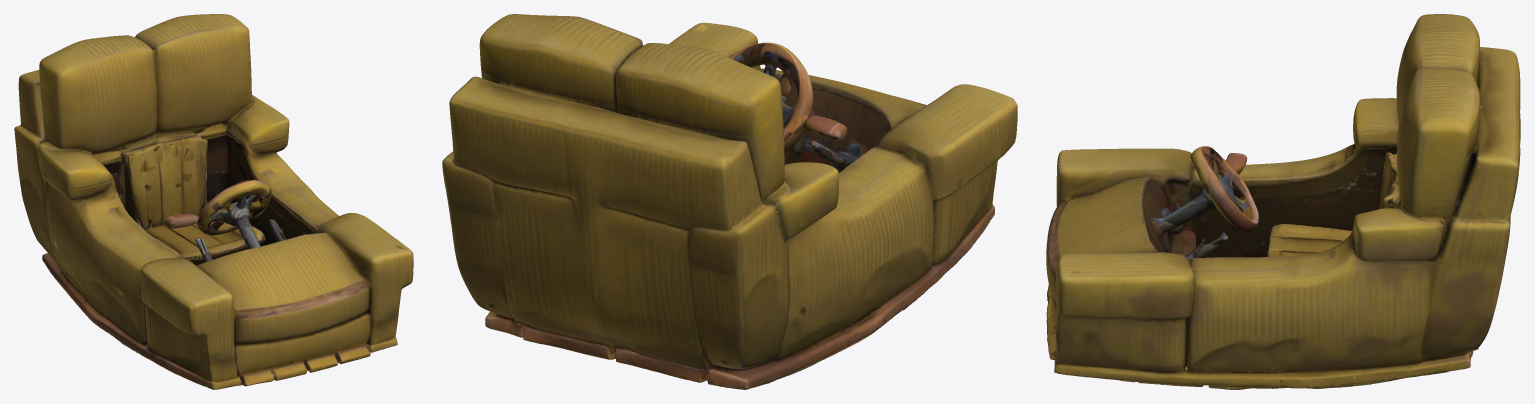
Rendered from Meshy_AI_couch_car_0330162428_texture.glb.
3 views of the same model, side by side, from view 1: azimuth 30°, elevation 25°; view 2: azimuth 150°, elevation 25°; view 3: azimuth 270°, elevation 25° (orthographic). The views are drawn at different scales.
Bounding box in the file's own units: 1.34 × 1.28 × 2.01.
Materials: 1 (1 with a texture image).
